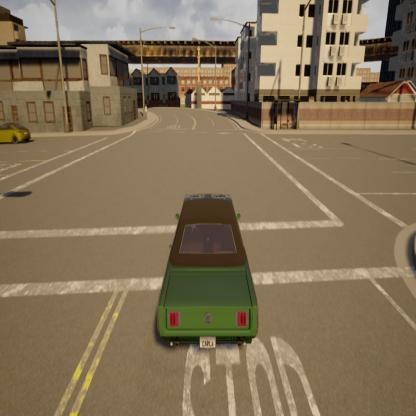Cars: (150, 181, 262, 357), (0, 117, 33, 148)
Pedestrian: (143, 102, 149, 122)
